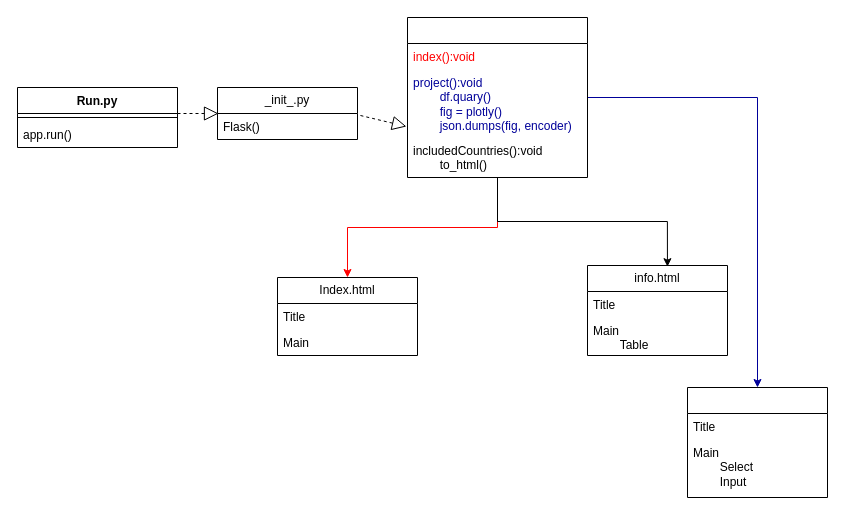
This 845x518 diagram has some shape labels left out. The shapes that lost their labels are listed below. From the top down, each one's box as (x1, y1, x2, y2) in pixels, then its label:
(406, 16, 588, 178): Views.py
(686, 386, 828, 498): Project.html
